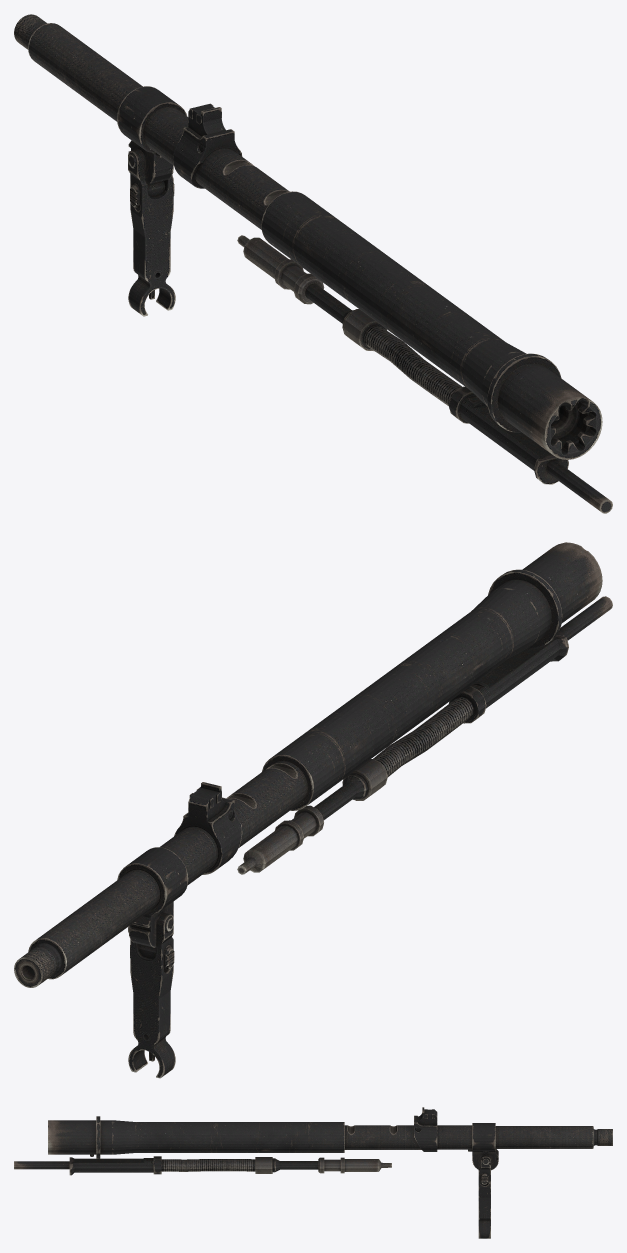
The picture shows the model from 3 angles, top to bottom: view 1: azimuth 30°, elevation 25°; view 2: azimuth 150°, elevation 25°; view 3: azimuth 270°, elevation 25°; orthographic projection. The views are drawn at different scales.
Parts seen in each view (by area): view 1: TW_5bb20d9cd4351e00334c9d8a_PZ_Import; view 2: TW_5bb20d9cd4351e00334c9d8a_PZ_Import; view 3: TW_5bb20d9cd4351e00334c9d8a_PZ_Import.
Part boxes in pixels (x1=…): TW_5bb20d9cd4351e00334c9d8a_PZ_Import: x1=14, y1=14, x2=612, y2=513; TW_5bb20d9cd4351e00334c9d8a_PZ_Import: x1=14, y1=542, x2=612, y2=1078; TW_5bb20d9cd4351e00334c9d8a_PZ_Import: x1=14, y1=1107, x2=612, y2=1238.
Bounding box in the file's own units: 0.017 × 0.2382 × 0.0551.
1 material, 1 textured.
